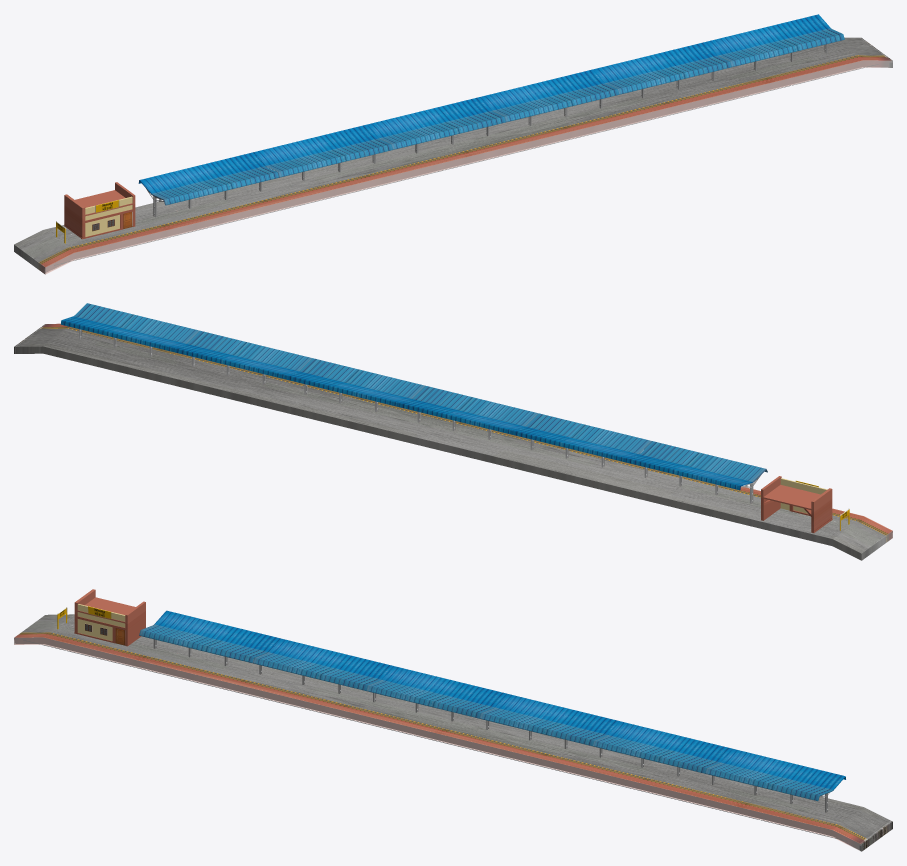
File: station.gltf
The picture shows the model from 3 angles, top to bottom: view 1: azimuth 30°, elevation 25°; view 2: azimuth 150°, elevation 25°; view 3: azimuth 330°, elevation 25°; orthographic projection.
Parts seen in each view (by area): view 1: Object_2; view 2: Object_2; view 3: Object_2.
Boxes of the visible parts, x1=… form: Object_2: x1=14, y1=14, x2=892, y2=274; Object_2: x1=14, y1=303, x2=892, y2=560; Object_2: x1=14, y1=589, x2=892, y2=851.
Bounding box in the file's own units: 38.46 × 1.99 × 2.46.
1 material, 1 textured.
